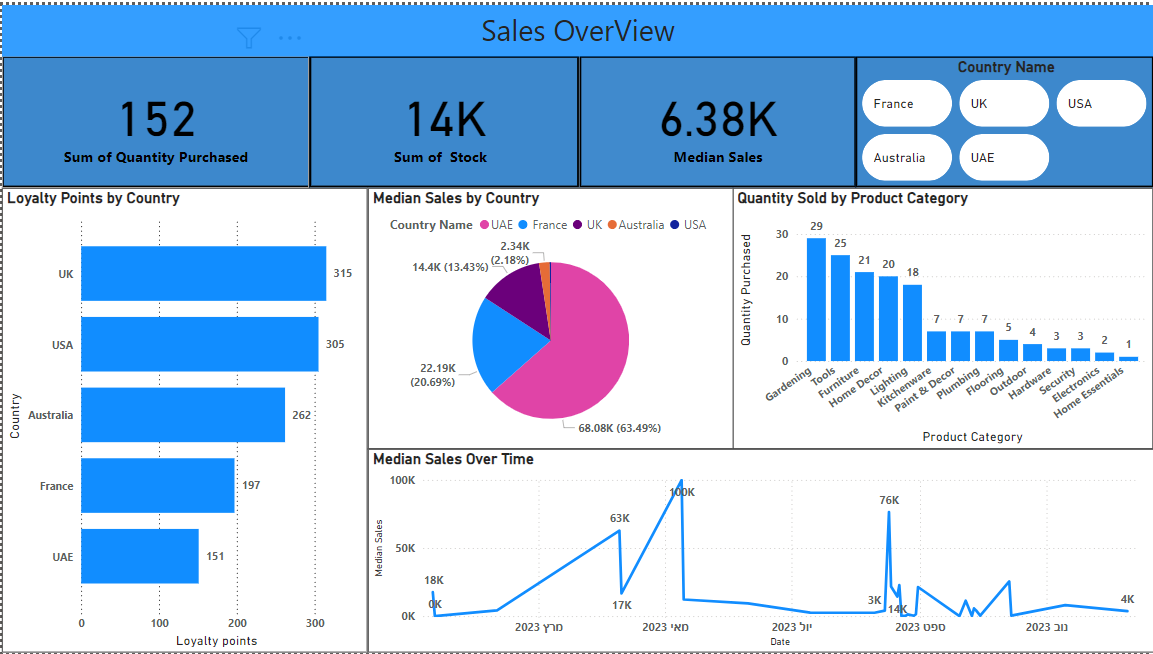

The dashboard page shown, as its layout file describes it:
{"tool":"powerbi","page":{"name":"Sales Overview","canvas":[1280,720],"ordinal":0},"visuals":[{"type":"clusteredBarChart","title":"Loyalty Points by Country","fields":{"Y":["Sum(Sales in USD. Loyalty Points)"],"Category":["Countries.Country"]},"box":[0,203.6,406.2,516],"z":0},{"type":"columnChart","title":"Quantity Sold by Product Category","fields":{"Y":["Sum(Sales in USD.Quantity Purchased)"],"Category":["Sales in USD.Product Category"]},"box":[812.3,203.6,467.7,290.3],"z":1000},{"type":"pieChart","title":"Median Sales by Country","fields":{"Y":["Sales in USD.Median Sales"],"Category":["Sales in USD.Country Name"]},"box":[406.2,203.6,406.2,290.3],"z":2000},{"type":"lineChart","title":"Median Sales Over Time","fields":{"Y":["Sales in USD.Median Sales"],"Category":["CalendarTable.Date"]},"box":[406.2,493.9,873.8,225.8],"z":3000},{"type":"card","fields":{"Values":["Sum(Sales in USD. Stock  )"]},"box":[341.7,57.4,299.3,146.1],"z":4000},{"type":"card","fields":{"Values":["Sum(Sales in USD.Quantity Purchased)"]},"box":[0,57.4,341.7,146.1],"z":5000},{"type":"card","fields":{"Values":["Sales in USD.Median Sales"]},"box":[641,57.4,307.4,146.1],"z":6000},{"type":"advancedSlicerVisual","fields":{"Values":["Sales in USD.Country Name"]},"box":[948.4,57.4,331.6,146.1],"z":7000},{"type":"textbox","box":[0,0,1280,57.4],"z":8000}]}

Visuals, with their boxes in screenshot pixels (x1, y1, x2, y2), scaled from the page's 1280x720 canvas onto the 1153x654 screenshot:
"Loyalty Points by Country" clusteredBarChart: l=0, t=185, r=366, b=653
"Quantity Sold by Product Category" columnChart: l=732, t=185, r=1152, b=449
"Median Sales by Country" pieChart: l=366, t=185, r=732, b=449
"Median Sales Over Time" lineChart: l=366, t=449, r=1152, b=653
card - Sum(Sales in USD. Stock  ): l=308, t=52, r=577, b=185
card - Sum(Sales in USD.Quantity Purchased): l=0, t=52, r=308, b=185
card - Sales in USD.Median Sales: l=577, t=52, r=854, b=185
advancedSlicerVisual - Sales in USD.Country Name: l=854, t=52, r=1152, b=185
textbox: l=0, t=0, r=1152, b=52
